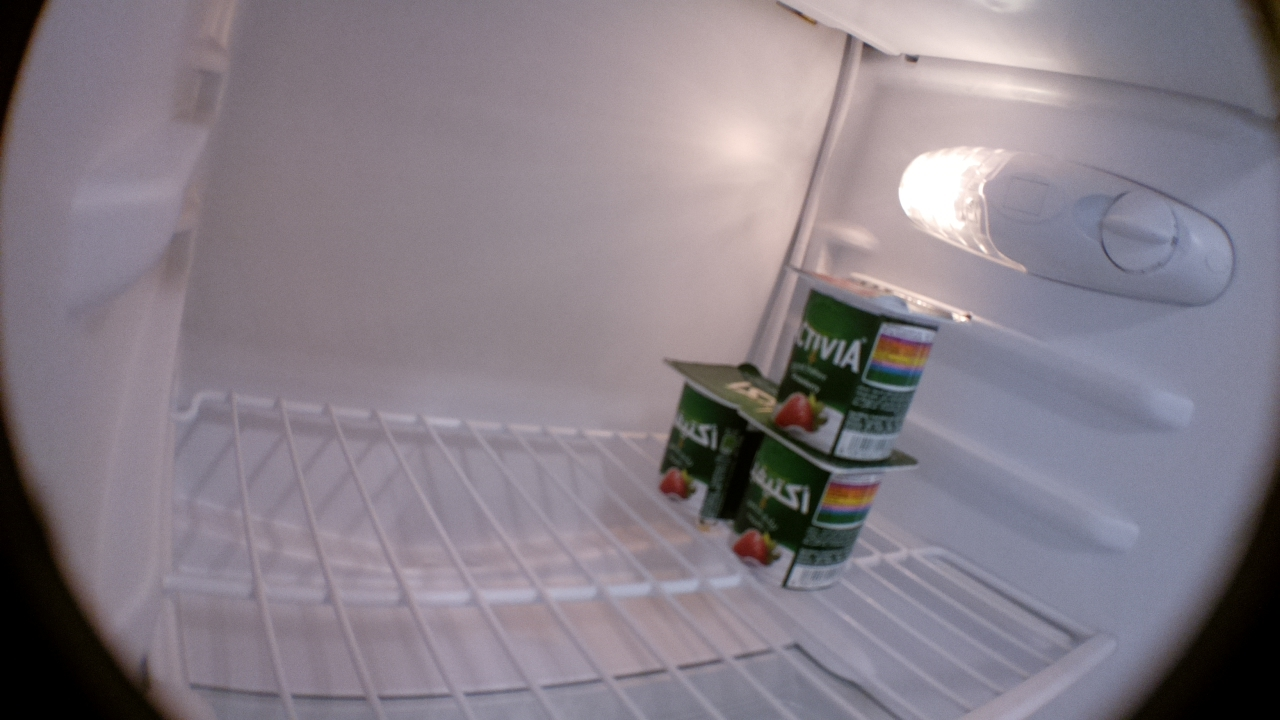yoghurt: (768, 261, 973, 461), (726, 406, 920, 595), (651, 356, 780, 530)
